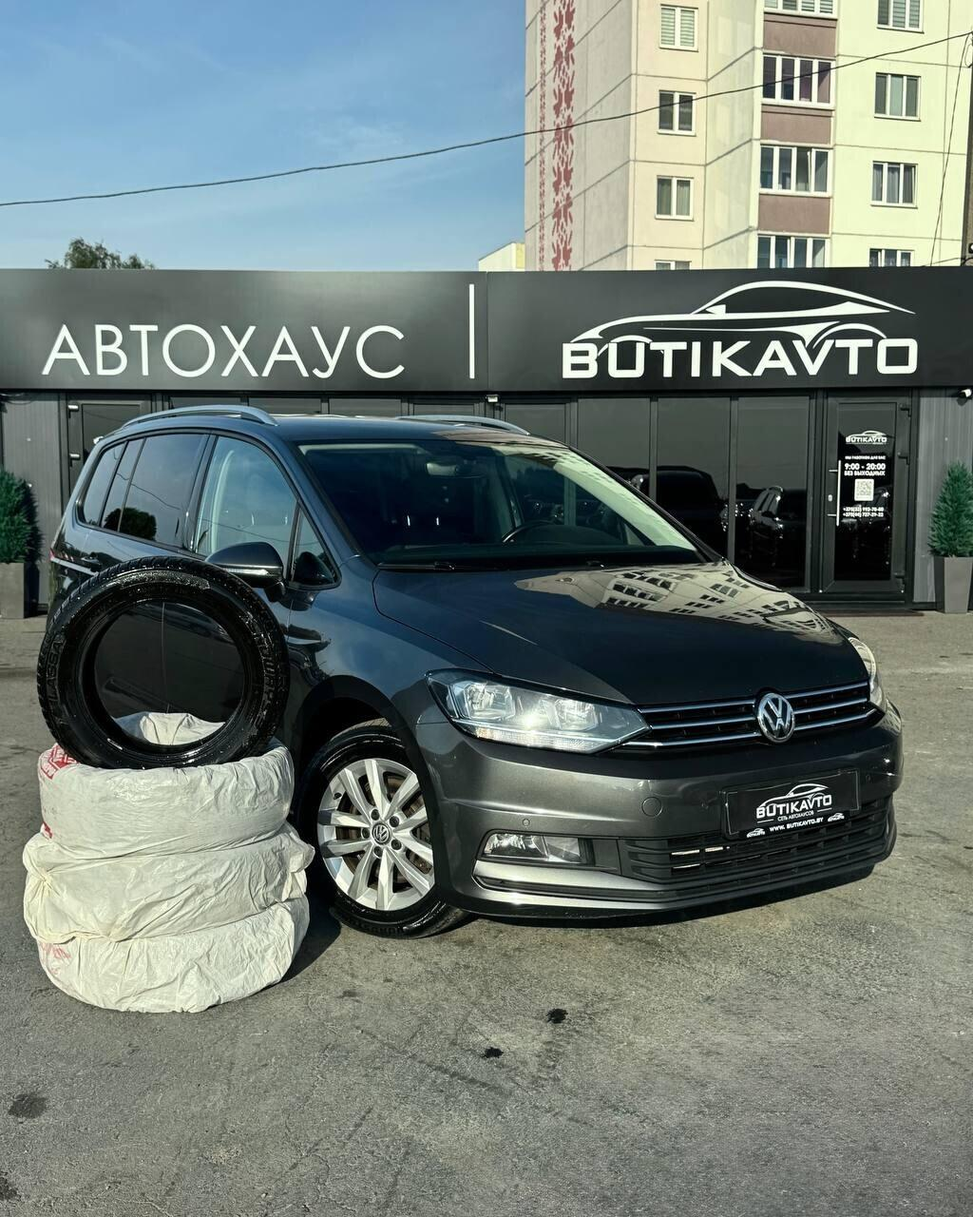Touran_2015: (65, 410, 904, 946)
